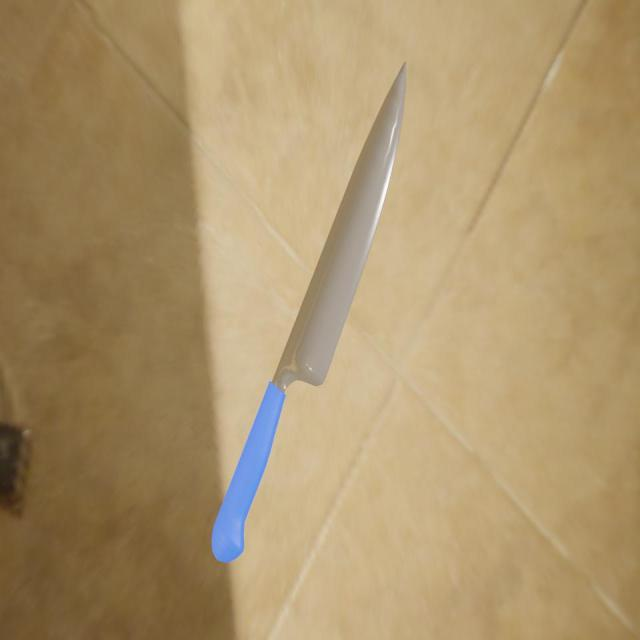knife: (211, 381, 286, 564)
